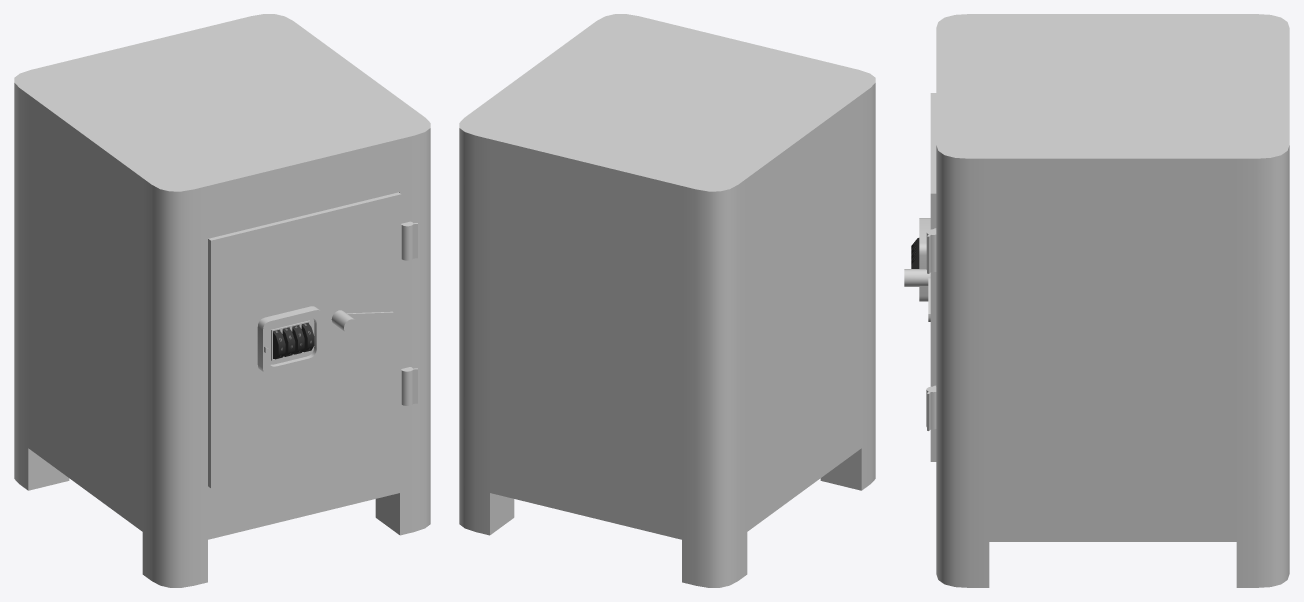
The model's file is Bedroom_Safe5.fbx.
3 views of the same model, side by side, from view 1: azimuth 30°, elevation 25°; view 2: azimuth 150°, elevation 25°; view 3: azimuth 270°, elevation 25° (orthographic). The views are drawn at different scales.
Visible parts, largest first — view 1: Safe, Box011, Box019, Handle, Cylinder012, Cylinder011; view 2: Safe; view 3: Safe, Box011, Box019, Handle.
Boxes of the visible parts, x1=… form: Safe: x1=14, y1=14, x2=430, y2=587; Box011: x1=208, y1=192, x2=401, y2=488; Box019: x1=257, y1=306, x2=322, y2=374; Handle: x1=331, y1=310, x2=394, y2=334; Cylinder012: x1=401, y1=221, x2=417, y2=260; Cylinder011: x1=401, y1=367, x2=417, y2=405; Safe: x1=459, y1=14, x2=875, y2=587; Safe: x1=936, y1=14, x2=1289, y2=587; Box011: x1=930, y1=93, x2=936, y2=461; Box019: x1=919, y1=218, x2=930, y2=301; Handle: x1=904, y1=269, x2=930, y2=321.
Size of the model in its own units: 13.44 by 18.59 by 15.12.
1 material, 1 textured.
